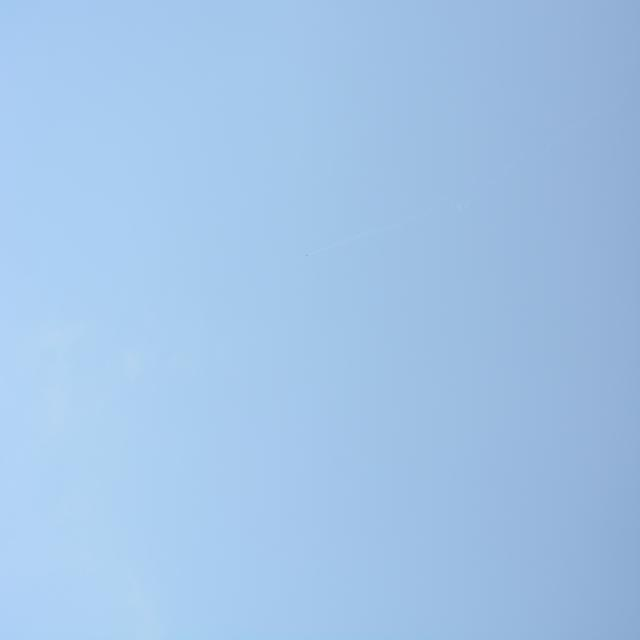Rocket: (304, 254, 308, 257)
